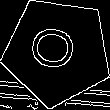O_E: (29, 27, 86, 77)
